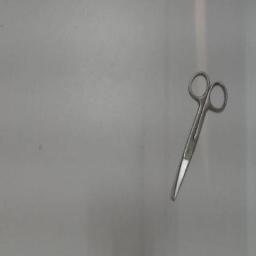Dressing Scissors: (165, 66, 233, 208)
